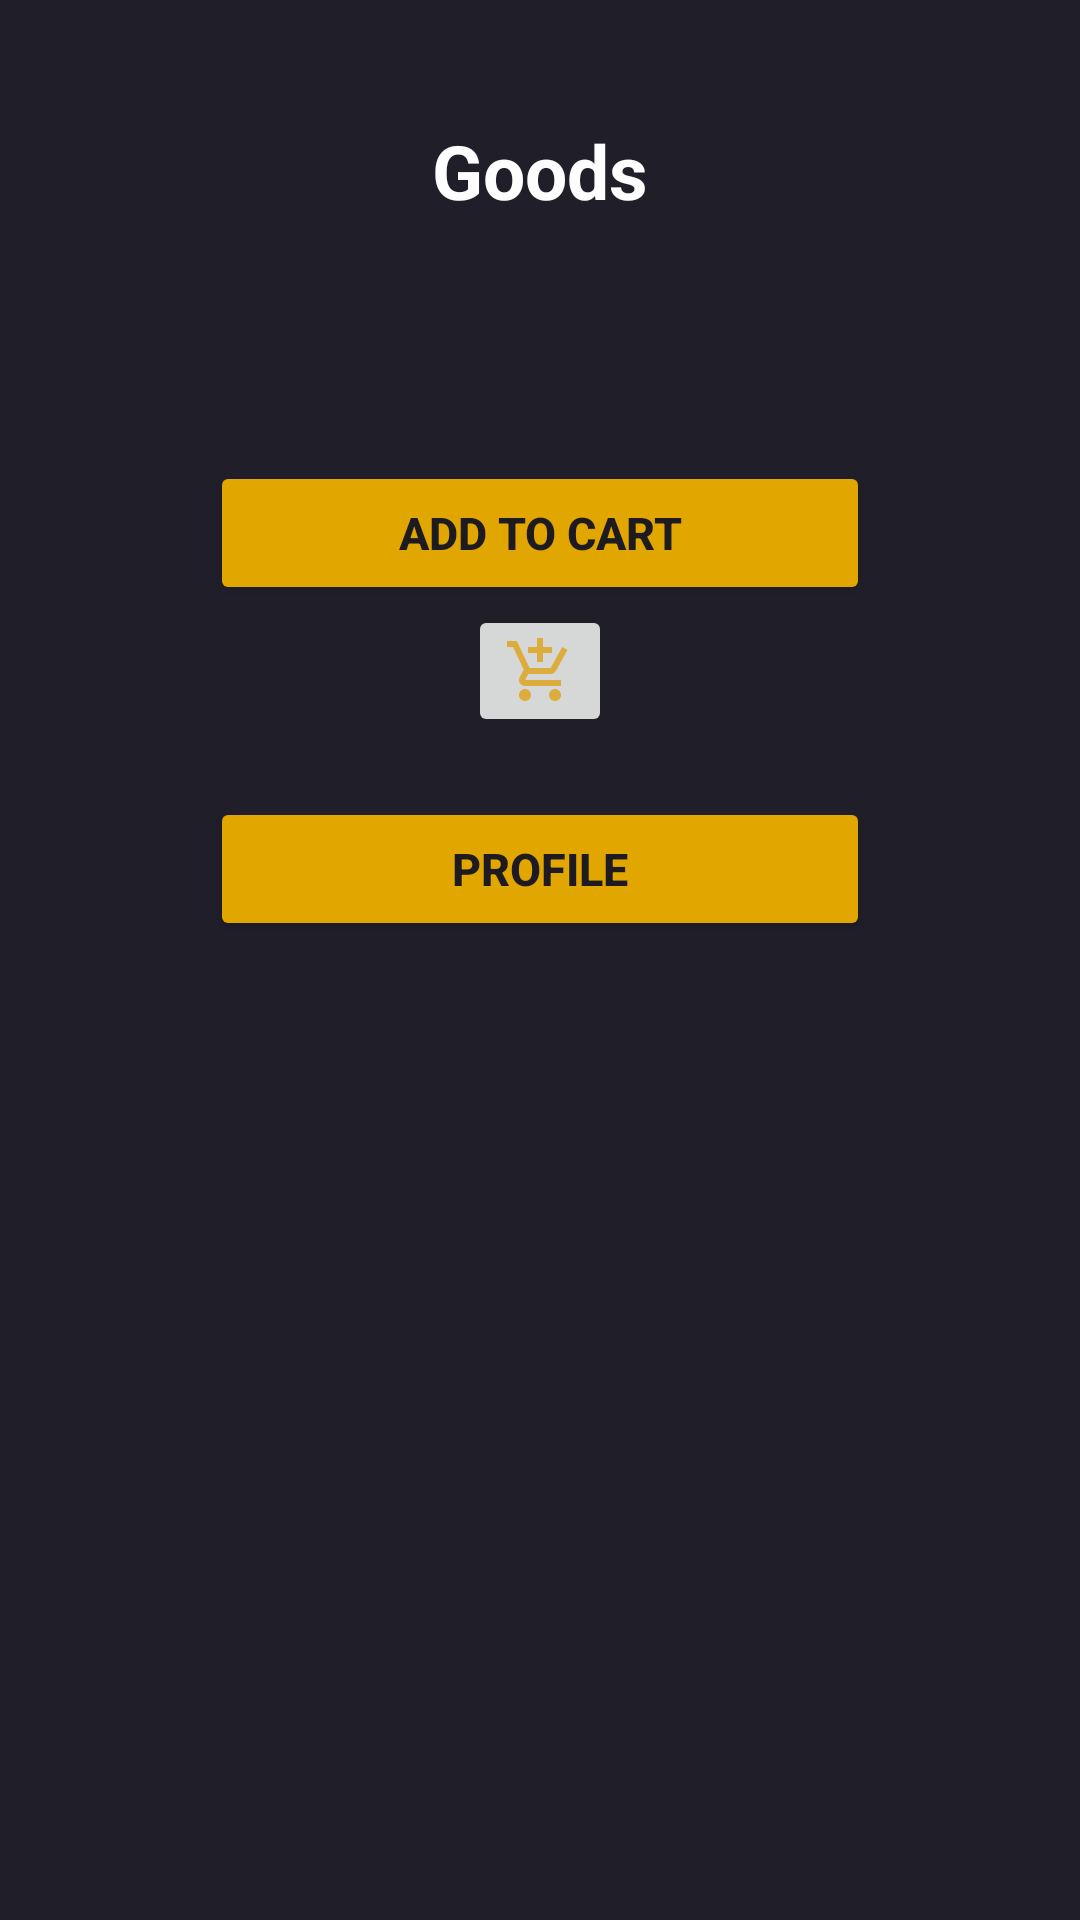

Screen size 1080×1920. Icon name, then its box in pixels as [x1, y1, x2, y2]:
add to shopping cart: [480, 623, 600, 719]
